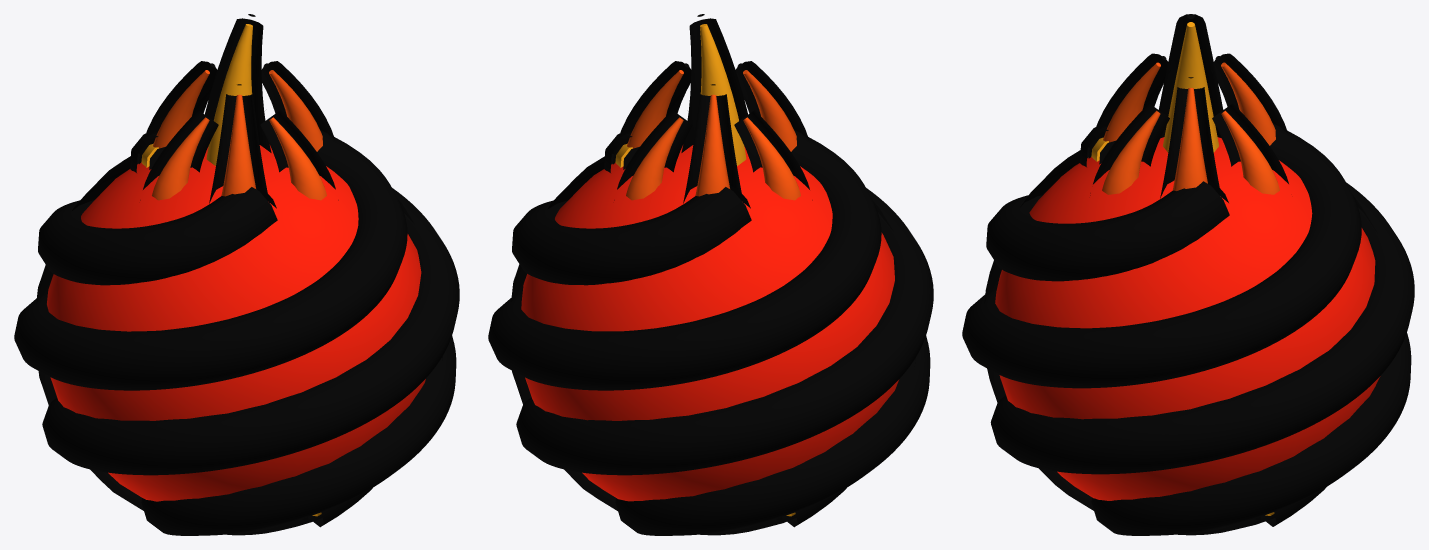
Rendered from Fruit_Blaze.glb.
3 views of the same model, side by side, from view 1: azimuth 30°, elevation 25°; view 2: azimuth 150°, elevation 25°; view 3: azimuth 270°, elevation 25° (orthographic).
Parts seen in each view (by area): view 1: Fruit_Blaze.001; view 2: Fruit_Blaze.001; view 3: Fruit_Blaze.001.
Boxes of the visible parts, x1,y1,x2,y2 form: Fruit_Blaze.001: [14, 14, 459, 535]; Fruit_Blaze.001: [488, 14, 933, 535]; Fruit_Blaze.001: [962, 14, 1414, 535].
Bounding box in the file's own units: 2.03 × 2.49 × 2.02.
1 material, 1 textured.
